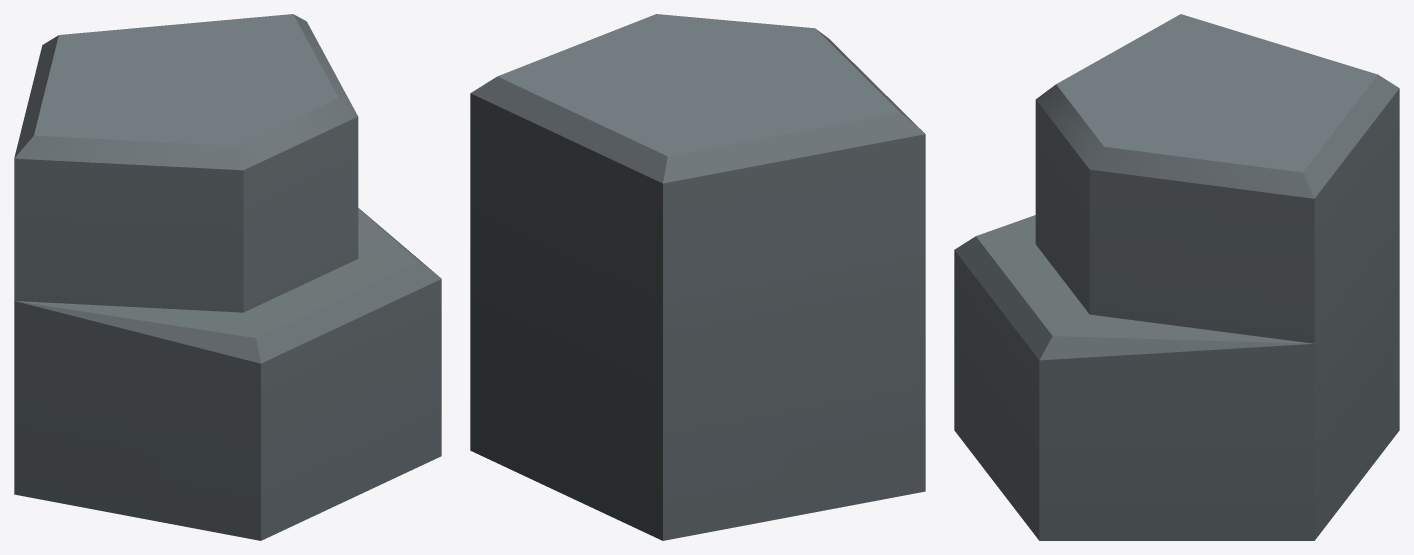
File: Rock_1_A_Color1.glb
3 views of the same model, side by side, from view 1: azimuth 30°, elevation 25°; view 2: azimuth 150°, elevation 25°; view 3: azimuth 270°, elevation 25° (orthographic). The views are drawn at different scales.
Parts seen in each view (by area): view 1: Rock_1_A_Color1; view 2: Rock_1_A_Color1; view 3: Rock_1_A_Color1.
Part boxes in pixels (bbox=[...]): Rock_1_A_Color1: bbox=[14, 14, 441, 540]; Rock_1_A_Color1: bbox=[470, 14, 925, 540]; Rock_1_A_Color1: bbox=[954, 14, 1399, 540].
Bounding box in the file's own units: 0.578 × 0.5403 × 0.6078.
Materials: 1 (1 with a texture image).
